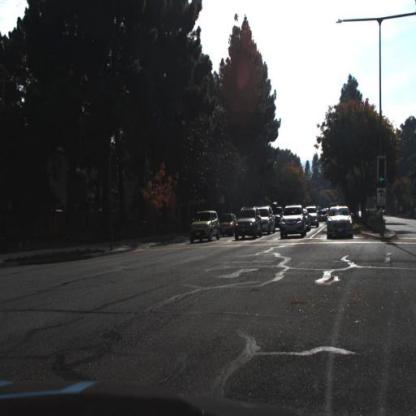car: (189, 210, 223, 246), (233, 207, 265, 242), (279, 203, 306, 239), (328, 205, 354, 240), (261, 206, 277, 236), (221, 213, 237, 238), (308, 205, 320, 228)
trafficLight-GreenLeft: (378, 157, 388, 189)
